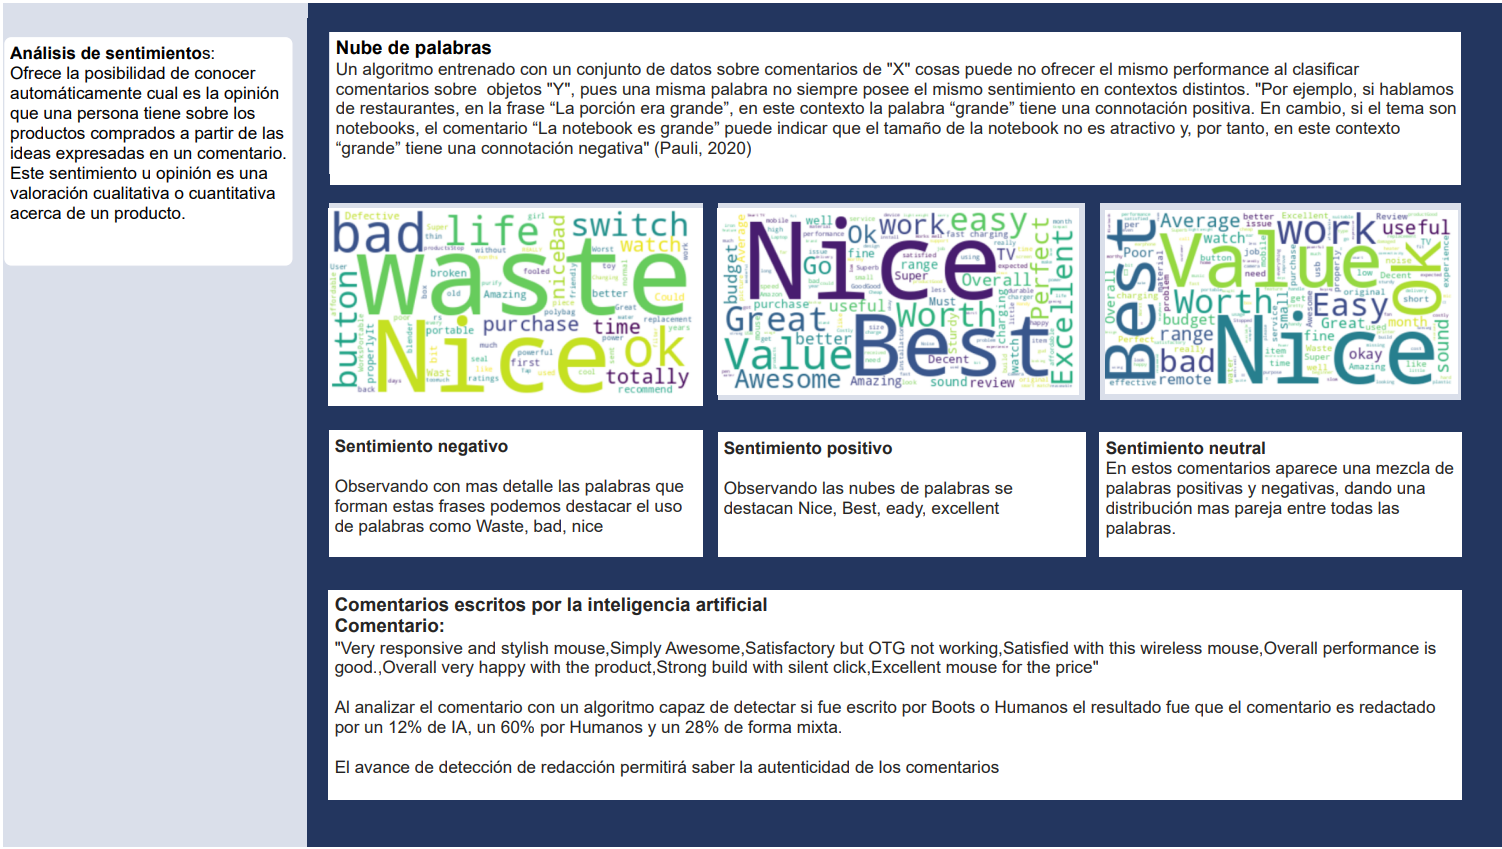

The page's visual inventory and layout, read from the dashboard file:
{"tool":"powerbi","page":{"name":"Nube de palabras","canvas":[1280,720],"ordinal":2},"visuals":[{"type":"shape","box":[263.8,146.2,1016.2,23.8],"z":0},{"type":"shape","box":[260,12.5,17.5,707.5],"z":1000},{"type":"shape","box":[266.2,338.8,1013.8,27.5],"z":2000},{"type":"textbox","box":[278.8,23.8,967.5,131.2],"z":3000},{"type":"shape","box":[1245,0,35,715],"z":4000},{"type":"textbox","box":[277.5,363.8,320,108.8],"z":5000},{"type":"shape","box":[597.5,170,12.5,302.5],"z":6000},{"type":"textbox","box":[277.5,500,967.5,180],"z":7000},{"type":"shape","box":[263.8,680,1016.2,40],"z":8000},{"type":"textbox","box":[0,27.5,247.5,197.5],"z":9000},{"type":"shape","box":[261.2,0,1016.2,23.8],"z":10000},{"type":"image","box":[265,170,345,177.5],"z":11000},{"type":"image","box":[603.8,170,320,168.8],"z":12000},{"type":"shape","box":[923.8,170,12.5,316.2],"z":13000},{"type":"image","box":[936.2,170,310,168.8],"z":14000},{"type":"textbox","box":[610,366.2,313.8,106.2],"z":15000},{"type":"textbox","box":[936.2,366.2,308.8,106.2],"z":16000},{"type":"shape","box":[260,472.5,1013.8,27.5],"z":17000}]}

Visuals, with their boxes in screenshot pixels (x1, y1, x2, y2), scaled from the page's 1280x720 canvas onto the 1502x849 screenshot:
shape: x1=310, y1=172, x2=1501, y2=200
shape: x1=305, y1=15, x2=326, y2=848
shape: x1=312, y1=400, x2=1501, y2=432
textbox: x1=327, y1=28, x2=1462, y2=183
shape: x1=1461, y1=0, x2=1501, y2=843
textbox: x1=326, y1=429, x2=701, y2=557
shape: x1=701, y1=200, x2=716, y2=557
textbox: x1=326, y1=590, x2=1461, y2=802
shape: x1=310, y1=802, x2=1501, y2=848
textbox: x1=0, y1=32, x2=290, y2=265
shape: x1=307, y1=0, x2=1499, y2=28
image: x1=311, y1=200, x2=716, y2=410
image: x1=709, y1=200, x2=1084, y2=400
shape: x1=1084, y1=200, x2=1099, y2=573
image: x1=1099, y1=200, x2=1462, y2=400
textbox: x1=716, y1=432, x2=1084, y2=557
textbox: x1=1099, y1=432, x2=1461, y2=557
shape: x1=305, y1=557, x2=1495, y2=590
